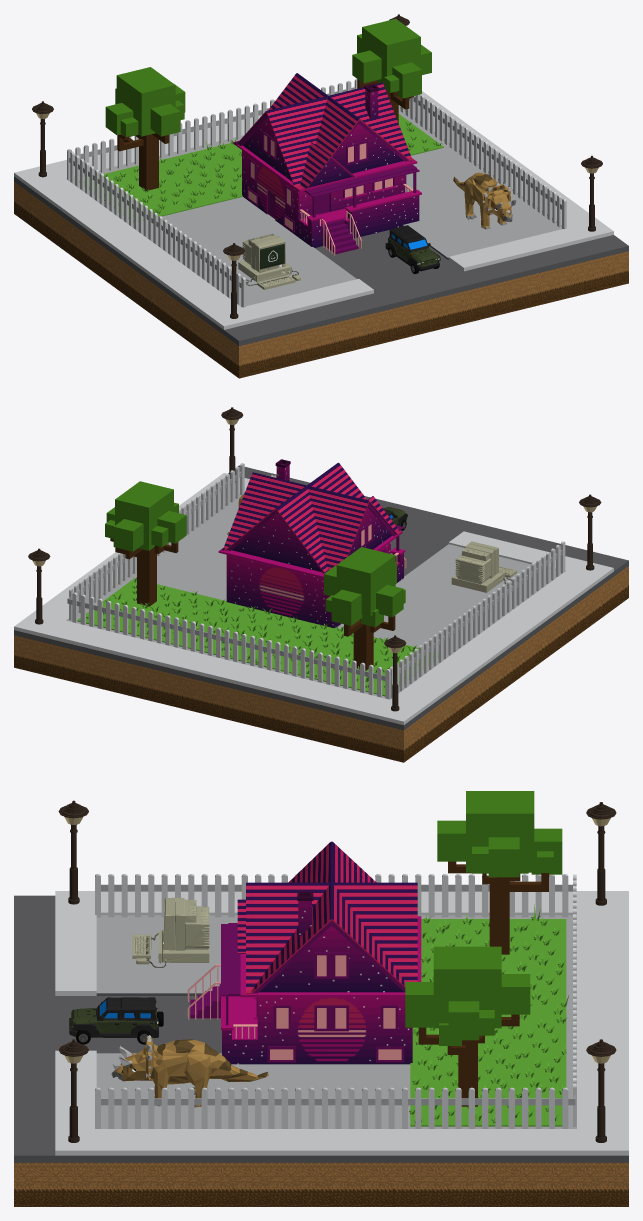
The picture shows the model from 3 angles, top to bottom: view 1: azimuth 30°, elevation 25°; view 2: azimuth 150°, elevation 25°; view 3: azimuth 270°, elevation 25°; orthographic projection. The views are drawn at different scales.
Visible parts, largest first — view 1: Cube.004, Cube.156, OBJRANDOM_RETRO_PC, ANIMAL_Triceratops, VEHICLES_JEEP; view 2: Cube.004, Cube.156, OBJRANDOM_RETRO_PC; view 3: Cube.004, Cube.156, ANIMAL_Triceratops, OBJRANDOM_RETRO_PC, VEHICLES_JEEP.
Part boxes in pixels (<box>): Cube.004: <box>14,14,628,378</box>; Cube.156: <box>233,73,421,255</box>; OBJRANDOM_RETRO_PC: <box>238,233,300,289</box>; ANIMAL_Triceratops: <box>453,172,516,229</box>; VEHICLES_JEEP: <box>385,225,440,274</box>; Cube.004: <box>14,407,628,762</box>; Cube.156: <box>218,459,406,627</box>; OBJRANDOM_RETRO_PC: <box>451,541,516,592</box>; Cube.004: <box>14,791,628,1206</box>; Cube.156: <box>187,841,421,1064</box>; ANIMAL_Triceratops: <box>111,1035,268,1107</box>; OBJRANDOM_RETRO_PC: <box>132,897,209,967</box>; VEHICLES_JEEP: <box>69,997,163,1044</box>.
Size of the model in its own units: 4000 by 1604 by 4000.
34 materials, 5 textured.
